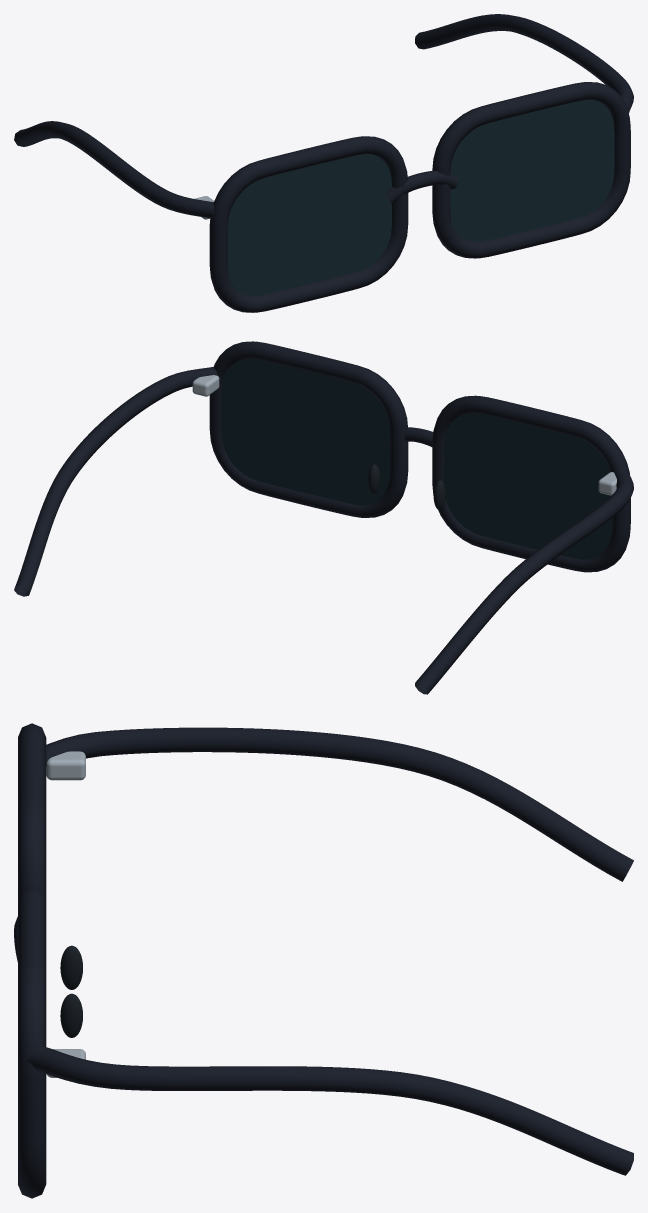
The model's file is atelier_sunglasses.glb.
3 views of the same model, one above another, from view 1: azimuth 30°, elevation 25°; view 2: azimuth 150°, elevation 25°; view 3: azimuth 270°, elevation 25° (orthographic). The views are drawn at different scales.
Parts seen in each view (by area): view 1: sunglasses:SunglassesV5_SmokeLens, sunglasses:SunglassesV5_Acetate; view 2: sunglasses:SunglassesV5_SmokeLens, sunglasses:SunglassesV5_Acetate, sunglasses:Atelier_BrushedSteel, sunglasses:Atelier_SoftRubber; view 3: sunglasses:SunglassesV5_Acetate, sunglasses:Atelier_SoftRubber, sunglasses:Atelier_BrushedSteel.
Part boxes in pixels (left/top/right/bottom): sunglasses:SunglassesV5_SmokeLens: left=228, top=99, right=614, bottom=295; sunglasses:SunglassesV5_Acetate: left=14, top=14, right=633, bottom=312; sunglasses:SunglassesV5_SmokeLens: left=221, top=359, right=612, bottom=559; sunglasses:SunglassesV5_Acetate: left=14, top=341, right=633, bottom=694; sunglasses:Atelier_BrushedSteel: left=192, top=375, right=616, bottom=495; sunglasses:Atelier_SoftRubber: left=368, top=464, right=445, bottom=509; sunglasses:SunglassesV5_Acetate: left=14, top=723, right=633, bottom=1198; sunglasses:Atelier_SoftRubber: left=60, top=945, right=82, bottom=1037; sunglasses:Atelier_BrushedSteel: left=46, top=751, right=85, bottom=1077.
Size of the model in its own units: 0.1459 by 0.0443 by 0.1092.
